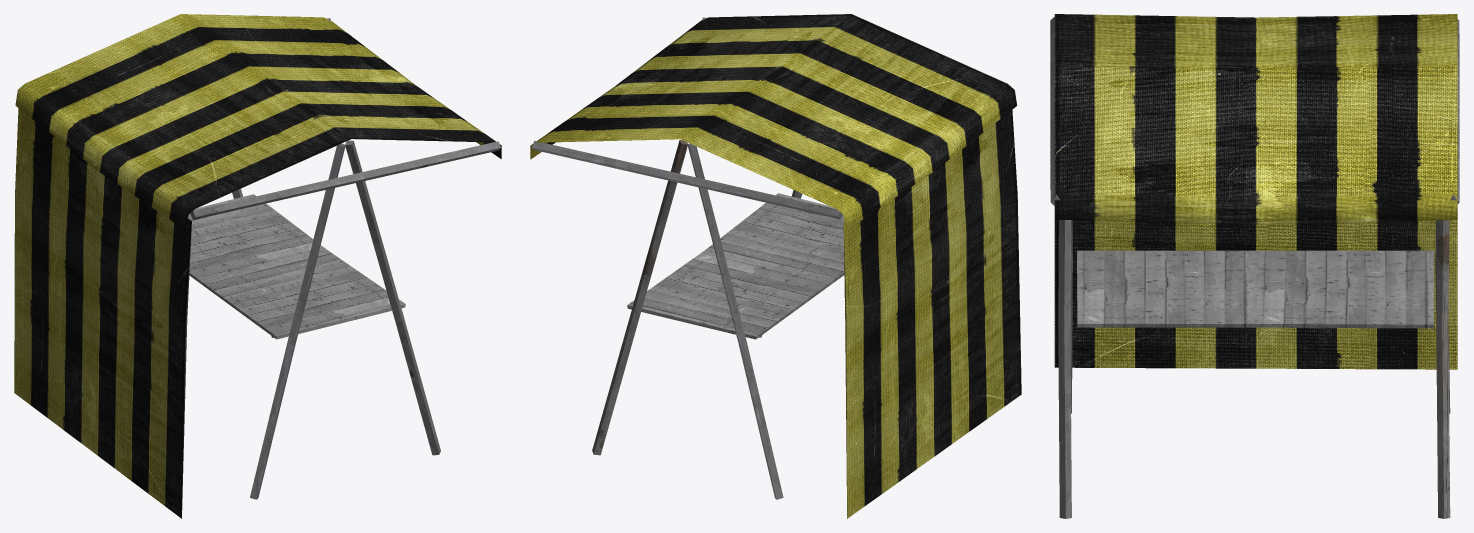
The model's file is booth02_LOD03.fbx.
3 renders of one model, left to right at view 1: azimuth 30°, elevation 25°; view 2: azimuth 150°, elevation 25°; view 3: azimuth 270°, elevation 25°, orthographic. The views are drawn at different scales.
Parts seen in each view (by area): view 1: Mesh Object; view 2: Mesh Object; view 3: Mesh Object.
Part boxes in pixels (box(x1,y1,x2,y2)): Mesh Object: box(14, 14, 501, 518); Mesh Object: box(530, 14, 1021, 518); Mesh Object: box(1050, 14, 1459, 518).
Bounding box in the file's own units: 2.35 × 2.39 × 2.21.
